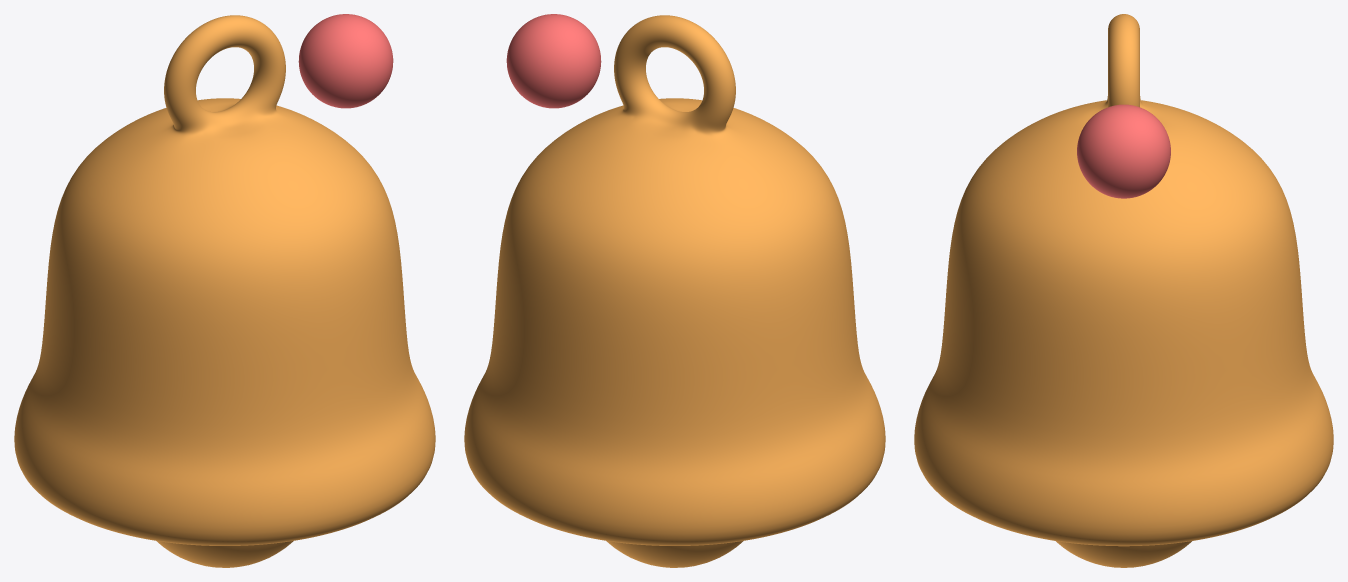
File: bell.fbx
The picture shows the model from 3 angles, left to right: view 1: azimuth 30°, elevation 25°; view 2: azimuth 150°, elevation 25°; view 3: azimuth 270°, elevation 25°; orthographic projection.
Parts seen in each view (by area): view 1: Bell Outer; view 2: Bell Outer; view 3: Bell Outer.
Part boxes in pixels (x1=…): Bell Outer: x1=14, y1=14, x2=435, y2=567; Bell Outer: x1=464, y1=14, x2=885, y2=567; Bell Outer: x1=914, y1=14, x2=1333, y2=567.
Size of the model in its own units: 131 by 185 by 131.
